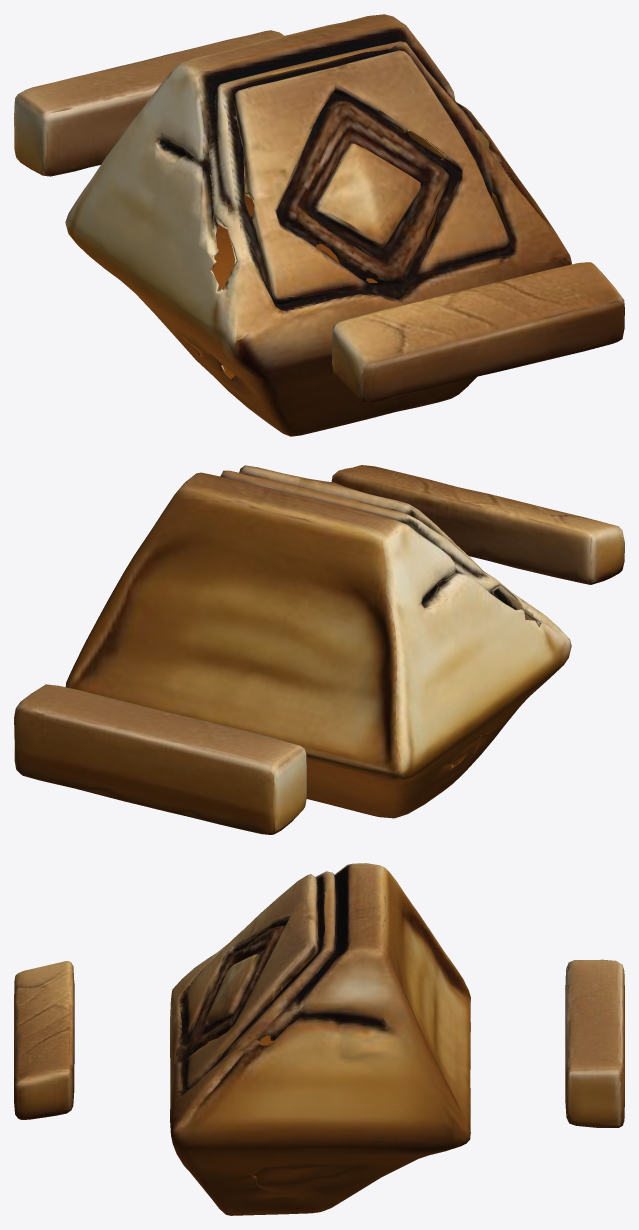
File: rf_voltaic_glyph.glb
3 views of the same model, one above another, from view 1: azimuth 30°, elevation 25°; view 2: azimuth 150°, elevation 25°; view 3: azimuth 270°, elevation 25° (orthographic). The views are drawn at different scales.
Visible parts, largest first — view 1: geometry_0; view 2: geometry_0; view 3: geometry_0.
Part boxes in pixels (<box>): geometry_0: <box>14,14,624,436</box>; geometry_0: <box>14,465,624,834</box>; geometry_0: <box>14,863,624,1215</box>.
Bounding box in the file's own units: 0.5635 × 0.5025 × 1.
1 material, 1 textured.
